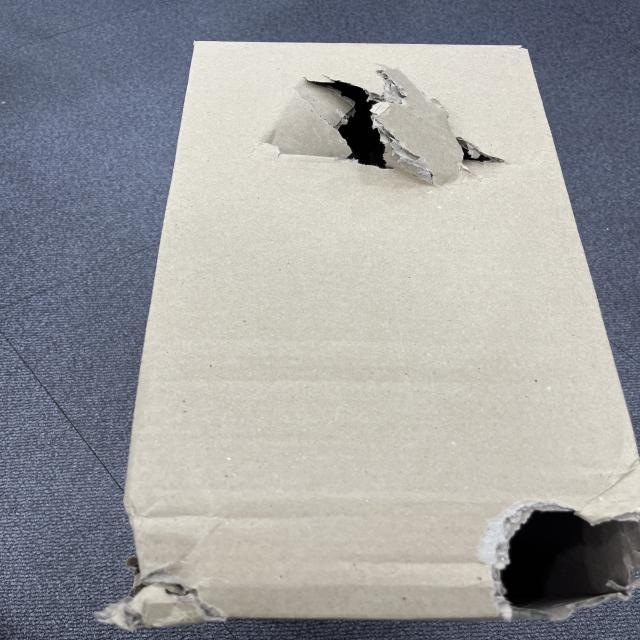hole: (282, 78, 504, 172), (481, 505, 640, 607)
